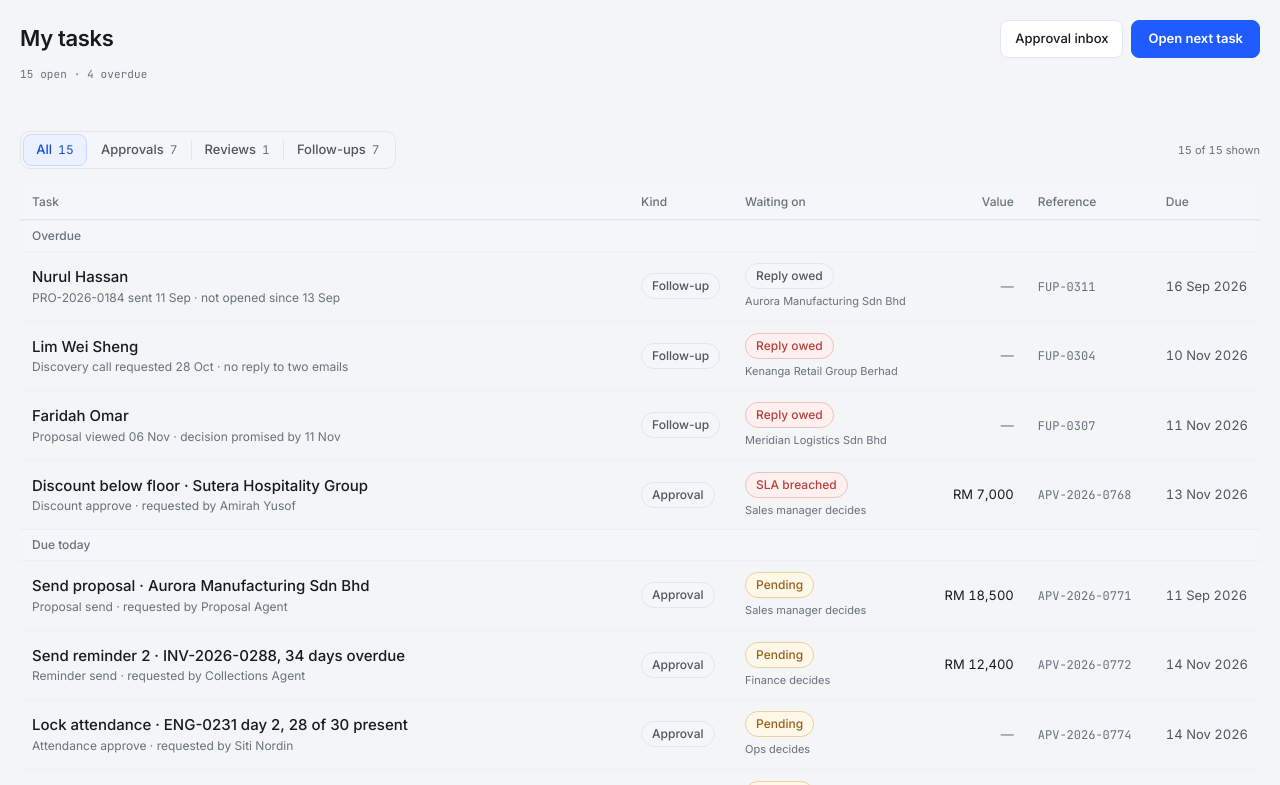
Test: /my-tasks › filters to one kind and states the emptiness in that kind's words
The width and height of the screenshot is (1280, 785).
Click the tab "Reviews 1": coordinates (237, 150) 192,134 -> 283,166
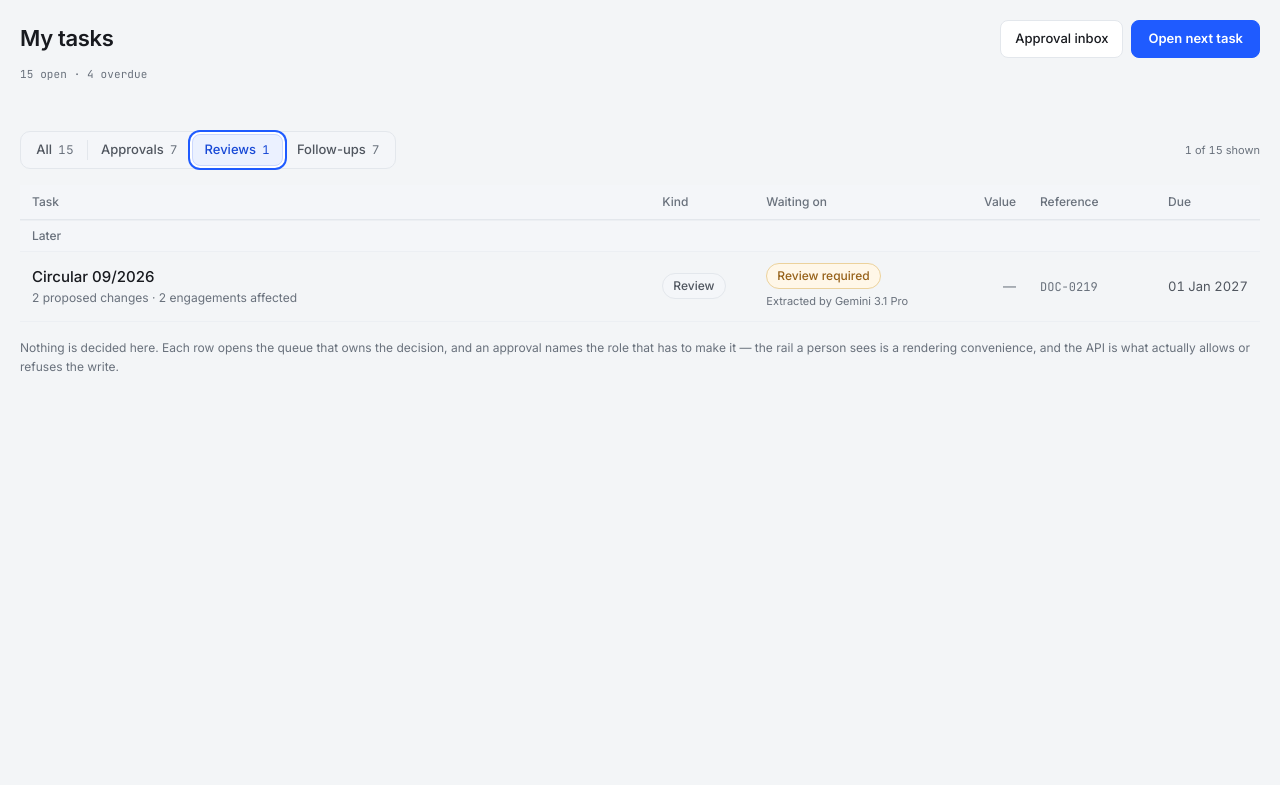
expect the text "Circular 09/2026" is shown: met, box 32,267 -> 154,286
expect the text "Lim Wei Sheng" is not shown: met
